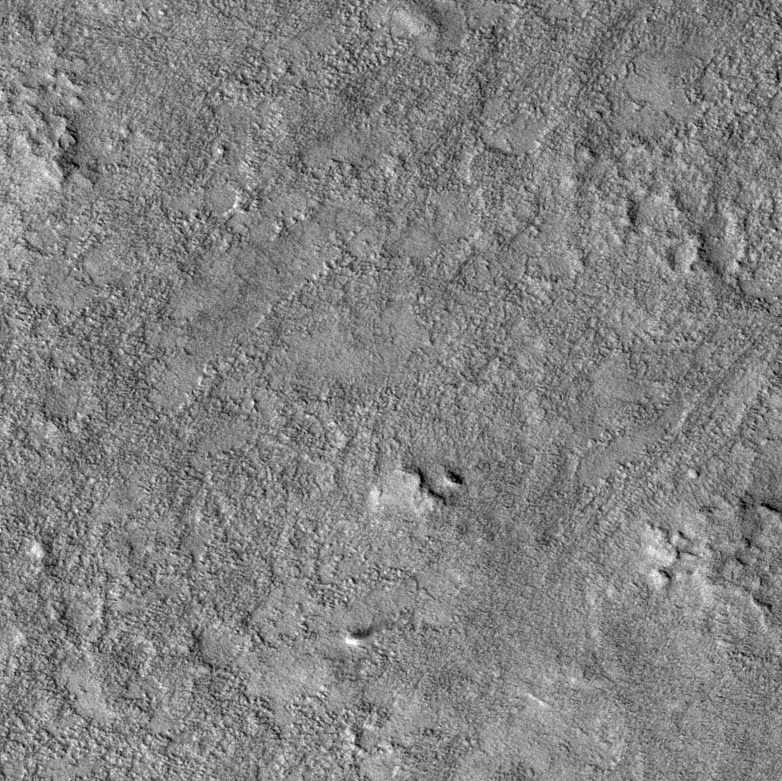dust_devil: (344, 622, 380, 646)
